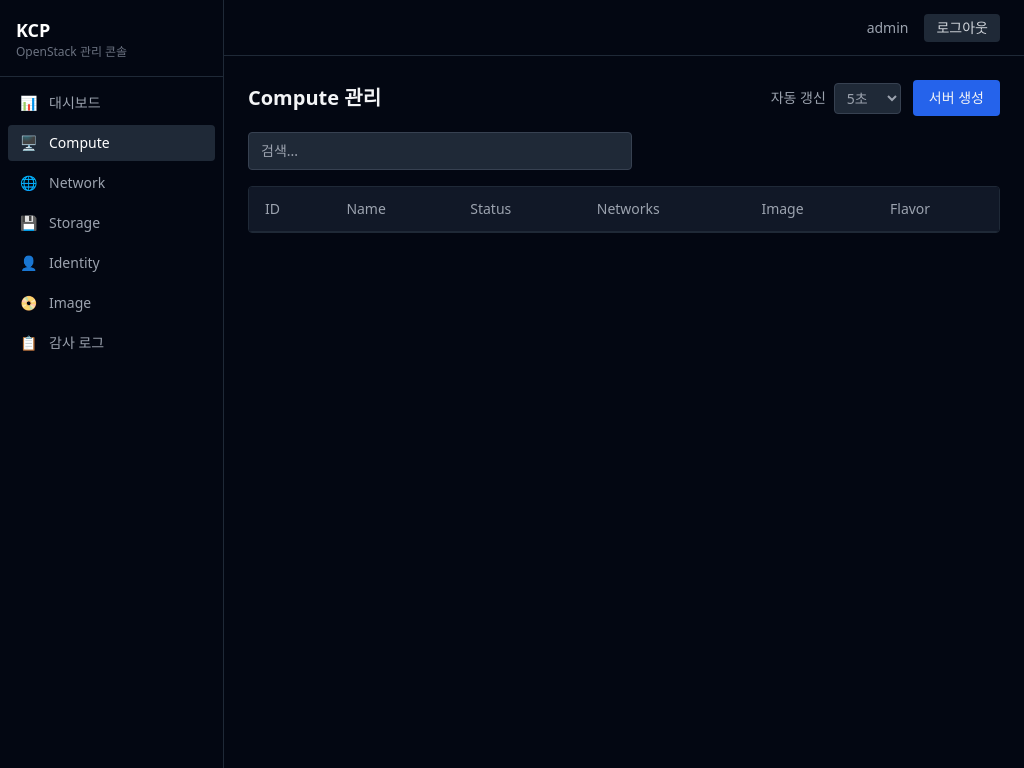
Test: ComputePage › 서버 생성 버튼 클릭 시 모달이 열린다
Step 1. Click the button "서버 생성" → (956,98), box [913,80,1000,116]
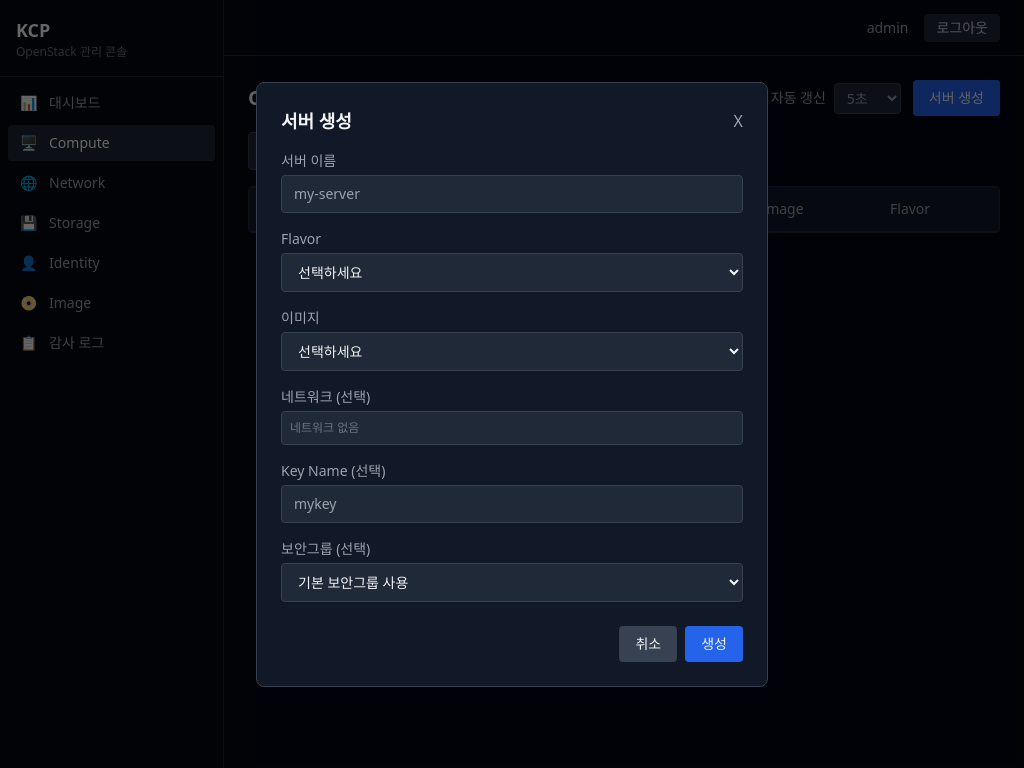
Result: the text "서버 이름" is shown at [281,150,336,170]
